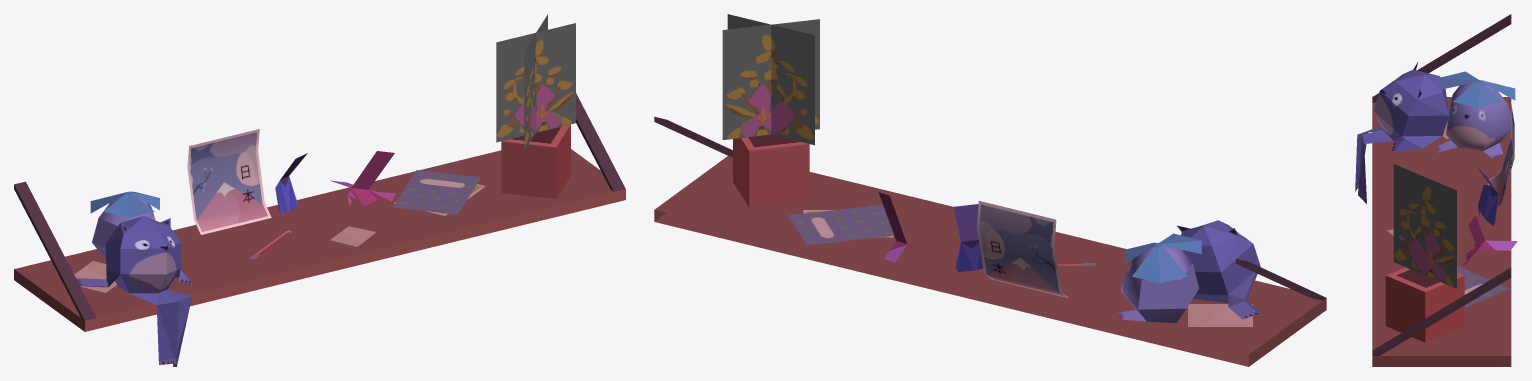
Rendered from Shelf.fbx.
3 views of the same model, side by side, from view 1: azimuth 30°, elevation 25°; view 2: azimuth 150°, elevation 25°; view 3: azimuth 270°, elevation 25° (orthographic). The views are drawn at different scales.
Visible parts, largest first — view 1: Shelf, Plushie_Cat, Flower_Plane, Photograph, Vase, Notepad, Origami_Pink, Flower_Plane1, polySurface1, polySurface3, Origami_Blue, Papers (+1 smaller); view 2: Shelf, Flower_Plane1, Photograph, Flower_Plane, Vase, Plushie_Cat, polySurface3, Notepad, polySurface1, Origami_Blue, Papers, Origami_Pink; view 3: Shelf, Flower_Plane1, Plushie_Cat, Vase, polySurface3, polySurface1, Photograph, Origami_Pink, Notepad, Origami_Blue.
Boxes of the visible parts, x1=… form: Shelf: x1=14, y1=93, x2=625, y2=331; Plushie_Cat: x1=76, y1=216, x2=192, y2=366; Flower_Plane: x1=496, y1=23, x2=575, y2=142; Photograph: x1=187, y1=129, x2=271, y2=234; Vase: x1=501, y1=124, x2=570, y2=198; Notepad: x1=393, y1=170, x2=480, y2=214; Origami_Pink: x1=330, y1=151, x2=395, y2=205; Flower_Plane1: x1=524, y1=14, x2=547, y2=150; polySurface1: x1=90, y1=191, x2=159, y2=217; polySurface3: x1=92, y1=194, x2=155, y2=258; Origami_Blue: x1=275, y1=153, x2=307, y2=217; Papers: x1=74, y1=261, x2=116, y2=292; Shelf: x1=654, y1=116, x2=1326, y2=366; Flower_Plane1: x1=722, y1=19, x2=819, y2=139; Photograph: x1=976, y1=201, x2=1068, y2=297; Flower_Plane: x1=727, y1=14, x2=814, y2=145; Vase: x1=733, y1=134, x2=809, y2=207; Plushie_Cat: x1=1177, y1=220, x2=1260, y2=319; polySurface3: x1=1118, y1=246, x2=1199, y2=322; Notepad: x1=788, y1=204, x2=903, y2=245; polySurface1: x1=1125, y1=233, x2=1201, y2=283; Origami_Blue: x1=953, y1=204, x2=983, y2=271; Papers: x1=1188, y1=304, x2=1252, y2=326; Origami_Pink: x1=878, y1=192, x2=921, y2=262; Shelf: x1=1372, y1=14, x2=1511, y2=366; Flower_Plane1: x1=1393, y1=164, x2=1456, y2=288; Plushie_Cat: x1=1355, y1=61, x2=1449, y2=203; Vase: x1=1385, y1=267, x2=1464, y2=342; polySurface3: x1=1437, y1=80, x2=1511, y2=158; polySurface1: x1=1440, y1=71, x2=1515, y2=107; Photograph: x1=1488, y1=104, x2=1514, y2=207; Origami_Pink: x1=1461, y1=216, x2=1517, y2=265; Notepad: x1=1457, y1=266, x2=1510, y2=307; Origami_Blue: x1=1475, y1=165, x2=1498, y2=225.
Bounding box in the file's own units: 19.9 × 7.65 × 5.29.
